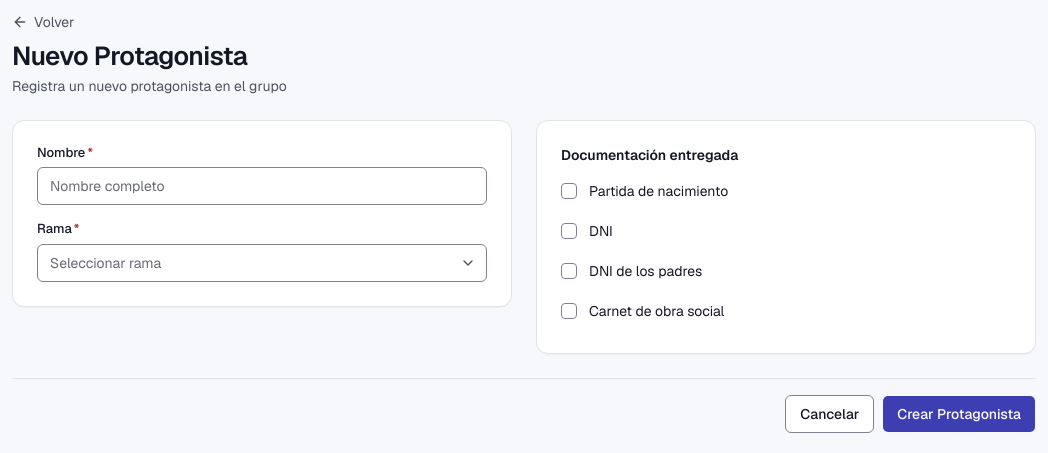
Test: <ProtagonistaFormView> › valida y crea el protagonista; vuelve al listado
expect the heading "Nuevo Protagonista" is shown: met, box [12,40,287,72]
Click the button "Crear Protagonista". click: (959, 414)
box: [882,395,1036,433]
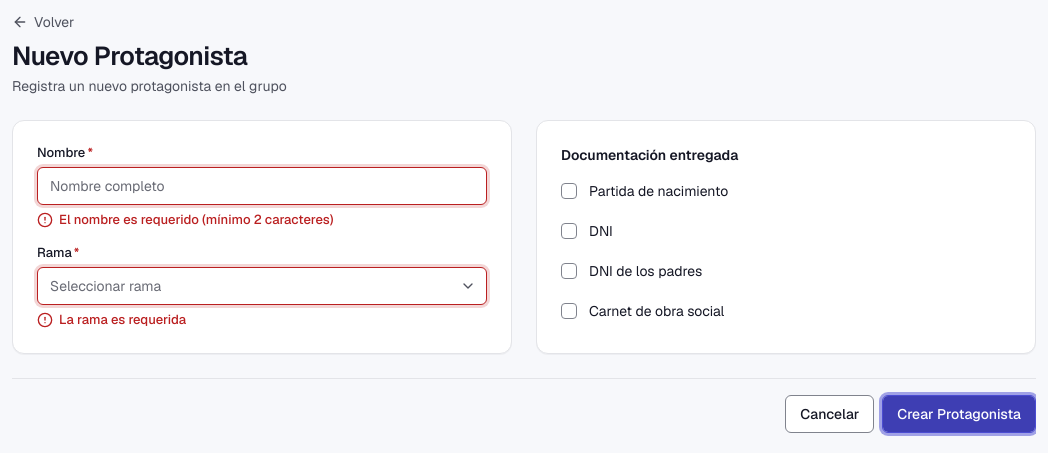
expect the text "El nombre es requerido (mínimo 2 caracteres)" is shown: met, box [59,211,334,229]
expect the text "La rama es requerida" is shown: met, box [59,311,186,329]
